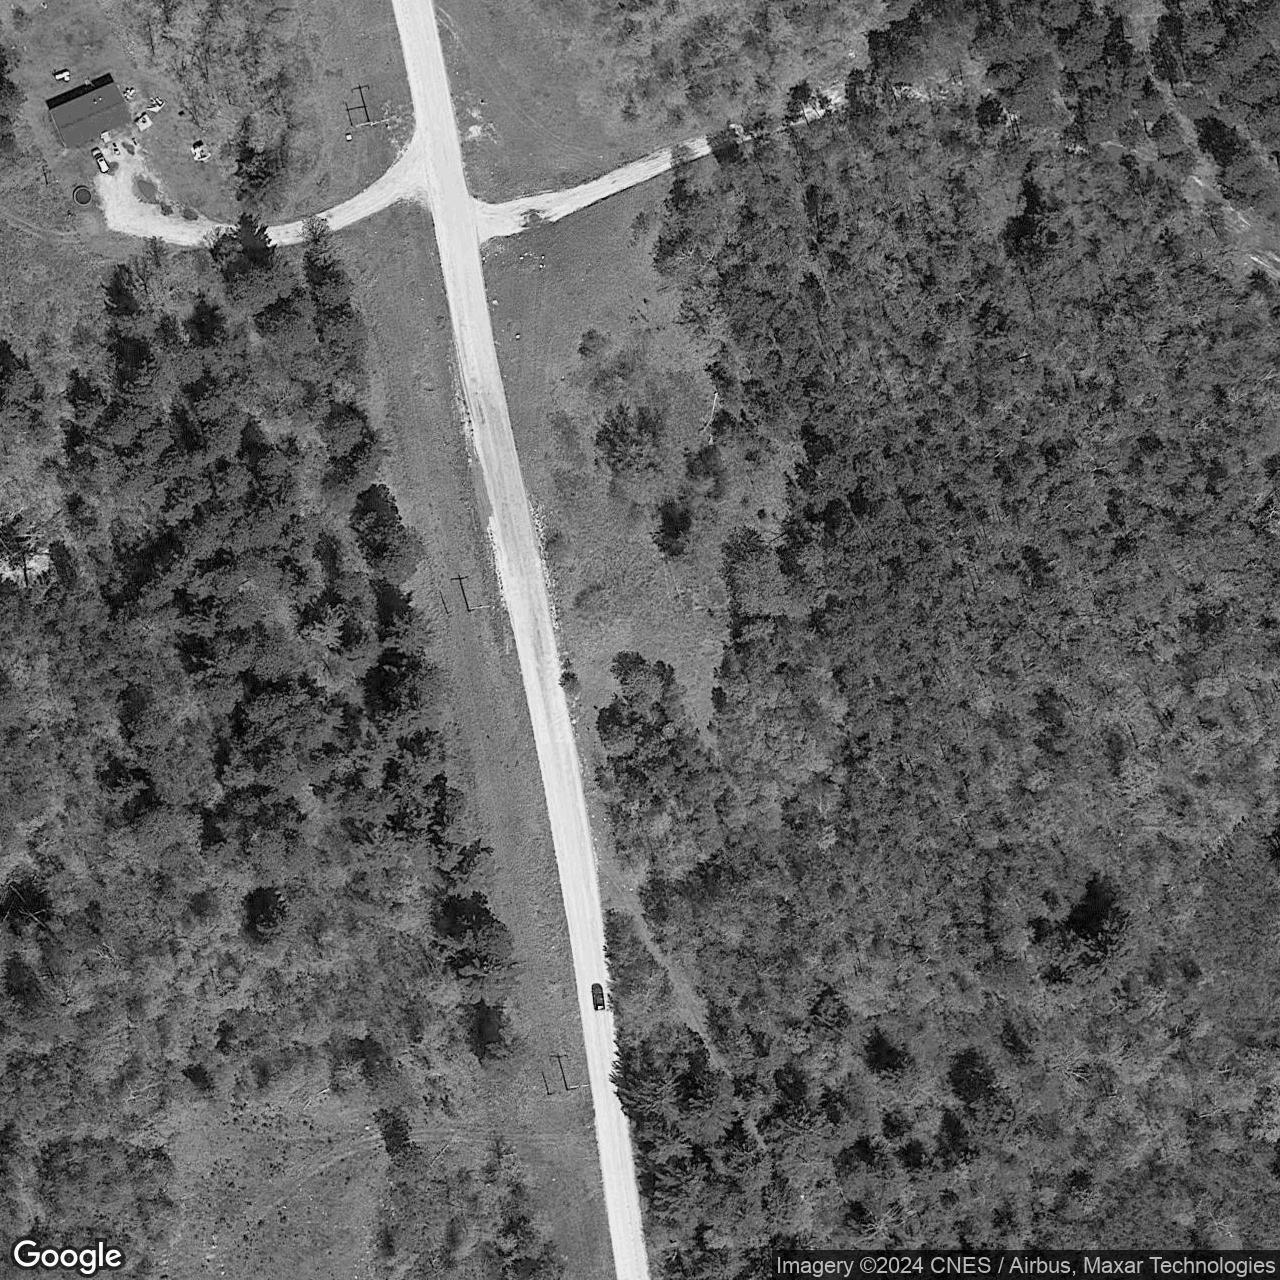House: (47, 80, 134, 150)
Propane: (50, 66, 74, 82)
